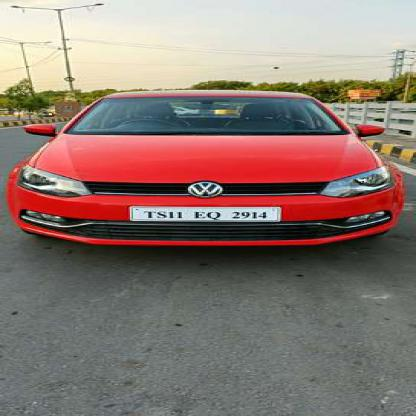license_plate: (127, 206, 277, 220)
